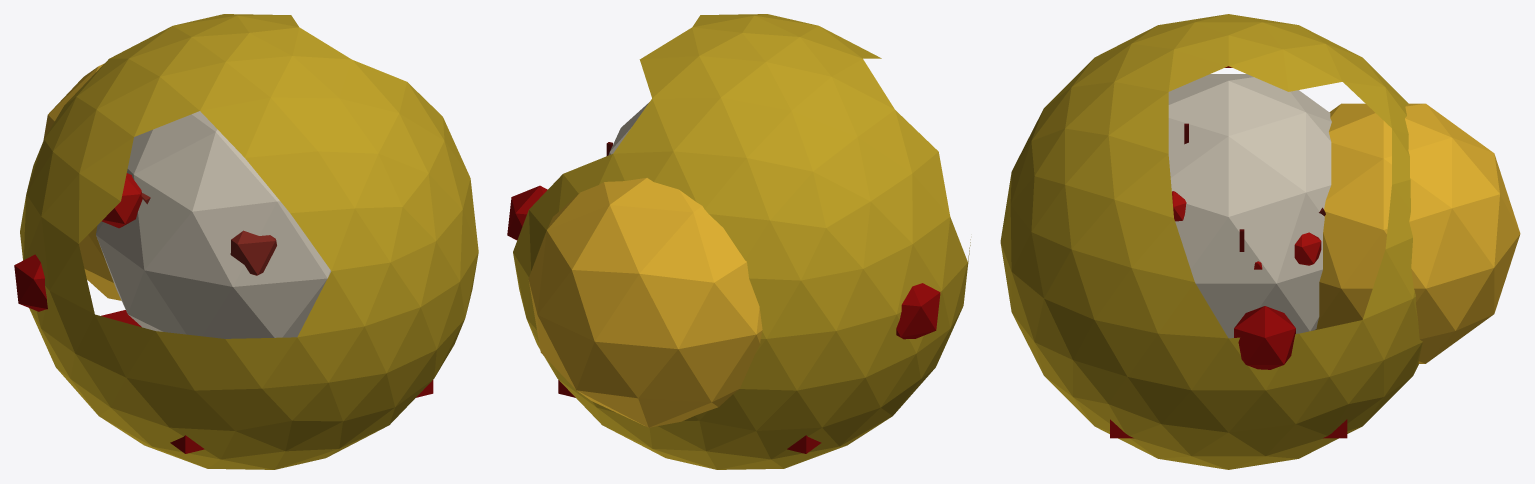
File: soviet_trooper_headshot.glb
The picture shows the model from 3 angles, left to right: view 1: azimuth 30°, elevation 25°; view 2: azimuth 150°, elevation 25°; view 3: azimuth 270°, elevation 25°; orthographic projection.
Parts seen in each view (by area): view 1: soviet_trooper_headshot; view 2: soviet_trooper_headshot; view 3: soviet_trooper_headshot.
Part boxes in pixels (x1,y1,x2,y2): soviet_trooper_headshot: [14, 14, 478, 469]; soviet_trooper_headshot: [507, 14, 970, 469]; soviet_trooper_headshot: [1000, 14, 1520, 469].
Bounding box in the file's own units: 1.06 × 1 × 1.14.
